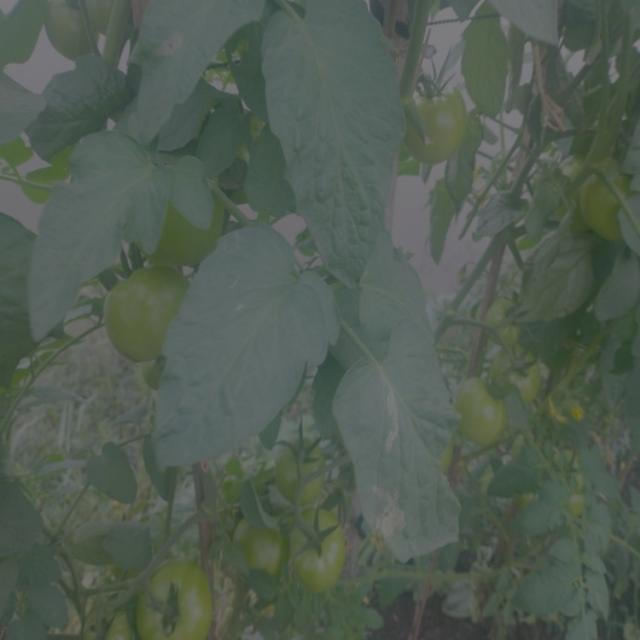tomato: (101, 264, 190, 358), (144, 183, 232, 258), (140, 561, 219, 639), (402, 86, 465, 164), (291, 515, 348, 595), (582, 171, 640, 240), (44, 1, 108, 60), (278, 435, 326, 503), (238, 513, 281, 579), (456, 379, 500, 441), (84, 599, 137, 640), (505, 349, 545, 400), (482, 302, 524, 341)
